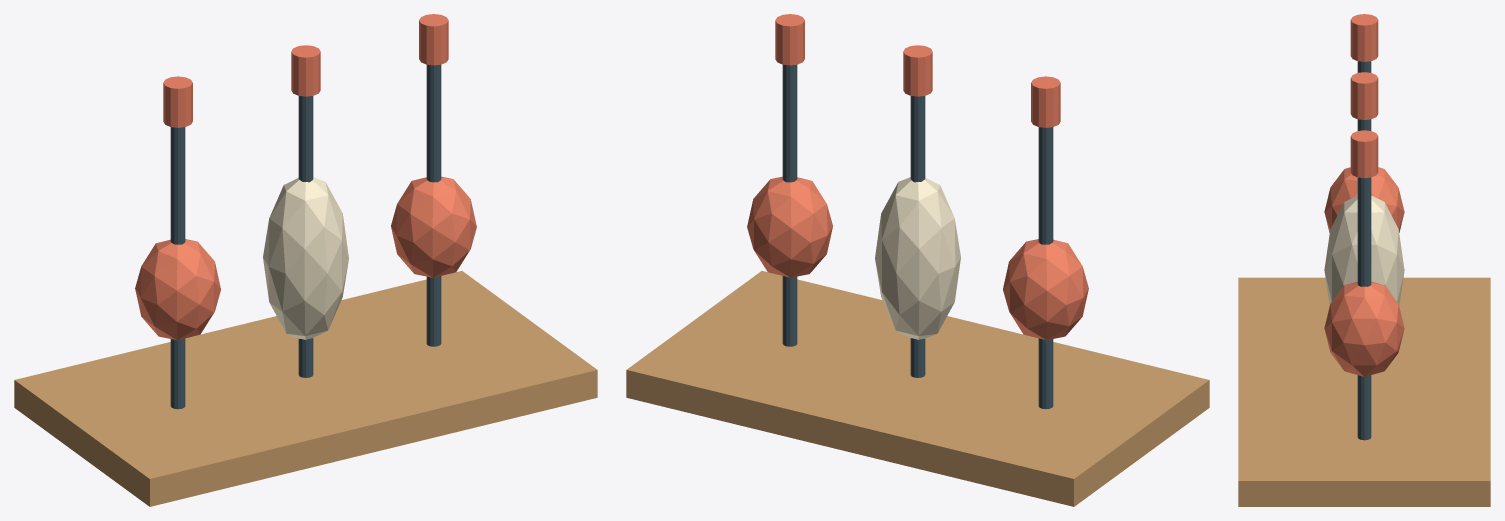
File: fishing_float_set_quiet_lake_fishing_22411.glb
3 views of the same model, side by side, from view 1: azimuth 30°, elevation 25°; view 2: azimuth 150°, elevation 25°; view 3: azimuth 270°, elevation 25° (orthographic). The views are drawn at different scales.
Visible parts, largest first — view 1: wood, coral, cream, iron; view 2: wood, coral, cream, iron; view 3: wood, coral, cream, iron.
Part boxes in pixels (x1,y1,x2,y2): wood: [14, 271, 597, 506]; coral: [135, 14, 476, 340]; cream: [263, 177, 348, 339]; iron: [170, 64, 441, 409]; wood: [626, 271, 1209, 506]; coral: [747, 14, 1088, 340]; cream: [875, 177, 960, 339]; iron: [782, 64, 1053, 409]; wood: [1238, 277, 1490, 506]; coral: [1324, 14, 1404, 376]; cream: [1324, 195, 1404, 305]; iron: [1357, 61, 1371, 440].
Size of the model in its own units: 0.42 by 0.315 by 0.22.
